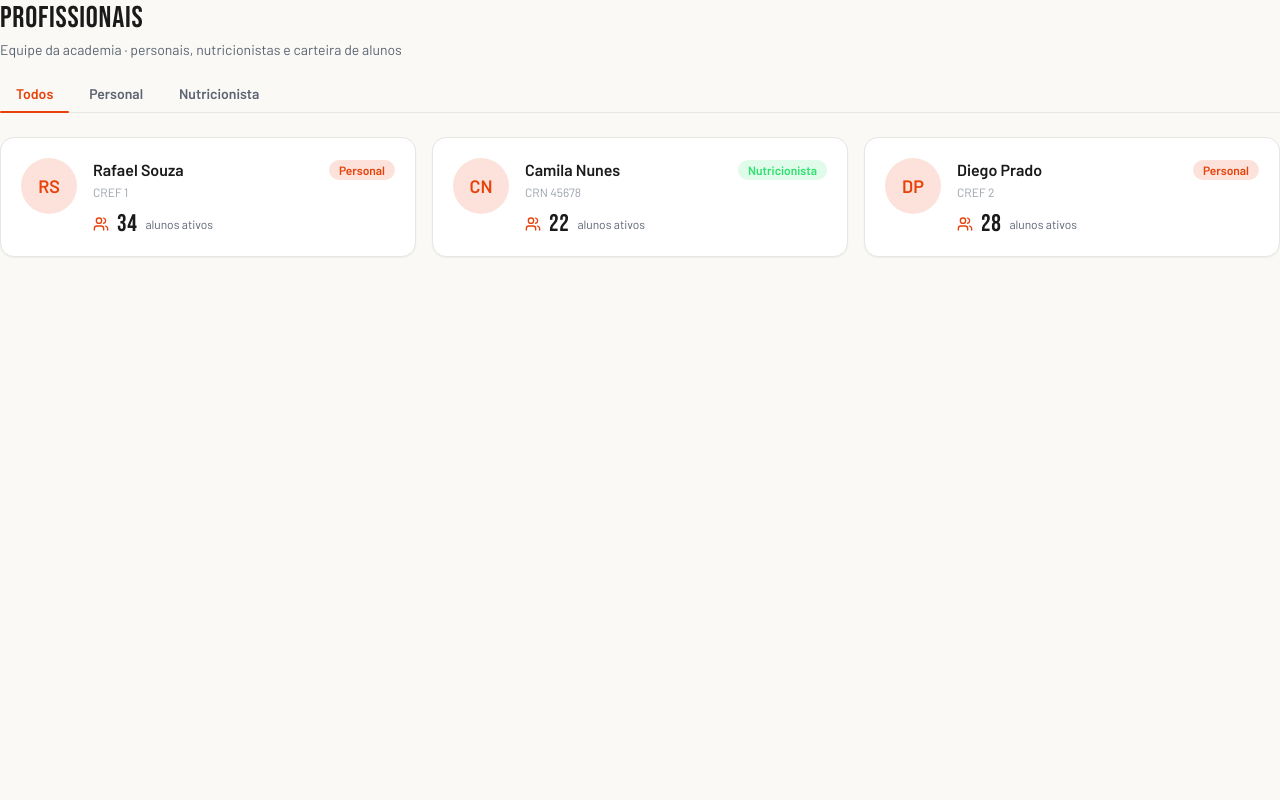
Test: ProfissionaisView › mostra estado vazio na carteira de quem não tem alunos com ficha
Expected: the heading "Camila Nunes" is shown, [525,158,620,182]
Click the button "CN Camila Nunes Nutricionista CRN 45678 22 alunos ativos".
click(481, 186)  # box [432,137,848,257]
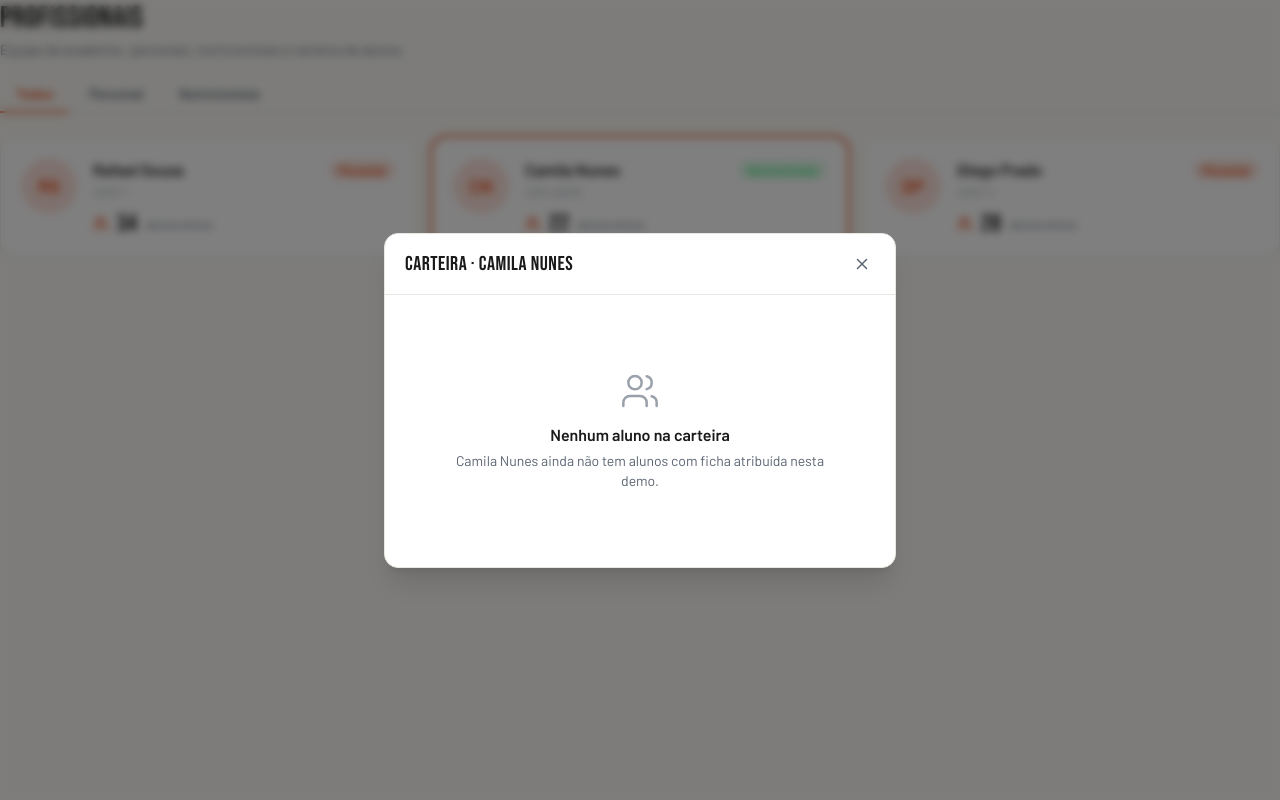
Expected: the text "Nenhum aluno na carteira" is shown, [550,424,730,444]
